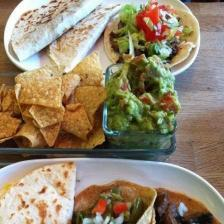chicken quesadilla: (8, 1, 106, 58), (4, 158, 75, 224)
guacamole: (104, 56, 182, 146)
nachos: (2, 61, 99, 149)
tacos: (78, 174, 220, 224), (104, 3, 201, 69)
